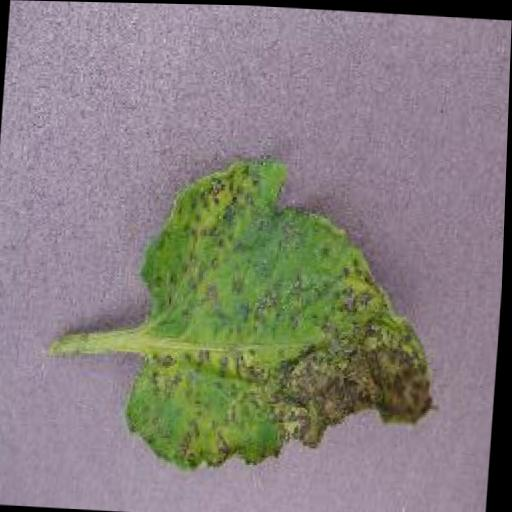Septoria: (123, 150, 454, 476)
